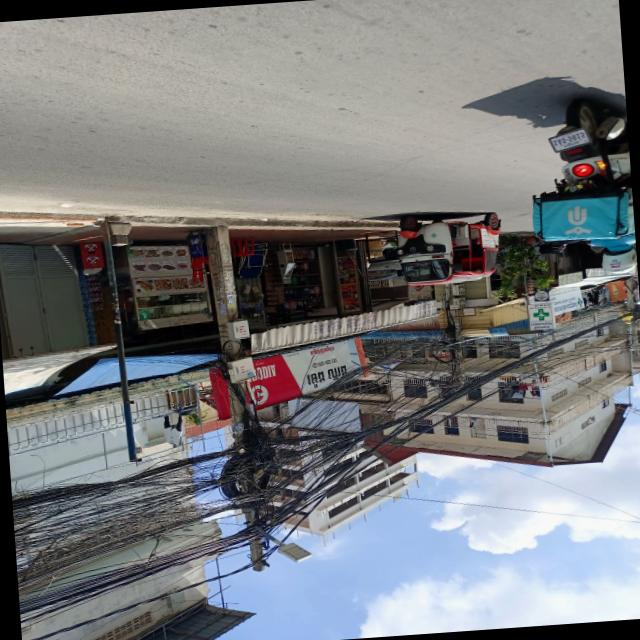1: (303, 362, 351, 392)
Yolov11_80vkh: (307, 344, 336, 358)
